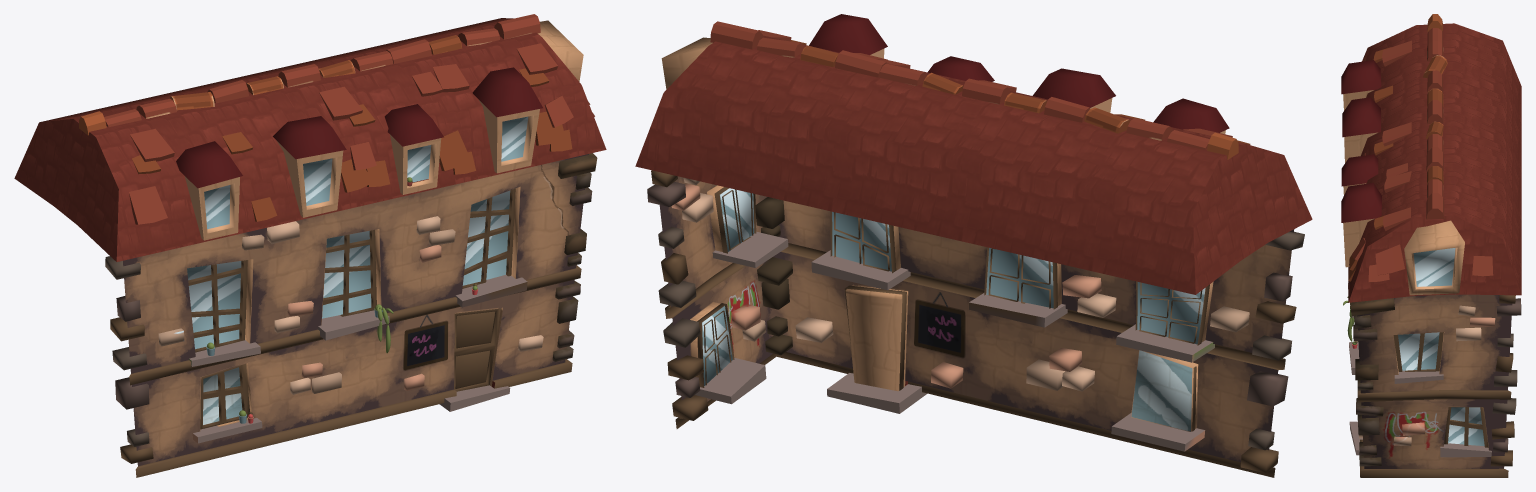
Rendered from Casa_Test_Asimetrica.fbx.
3 views of the same model, side by side, from view 1: azimuth 30°, elevation 25°; view 2: azimuth 150°, elevation 25°; view 3: azimuth 270°, elevation 25° (orthographic). The views are drawn at different scales.
Parts seen in each view (by area): view 1: Casa_Test_Asimetrica; view 2: Casa_Test_Asimetrica; view 3: Casa_Test_Asimetrica.
Boxes of the visible parts, left/top/right/bottom form: Casa_Test_Asimetrica: left=14, top=14, right=606, bottom=477; Casa_Test_Asimetrica: left=635, top=14, right=1312, bottom=477; Casa_Test_Asimetrica: left=1341, top=14, right=1521, bottom=477.
Size of the model in its own units: 13.05 by 8.37 by 4.81.
